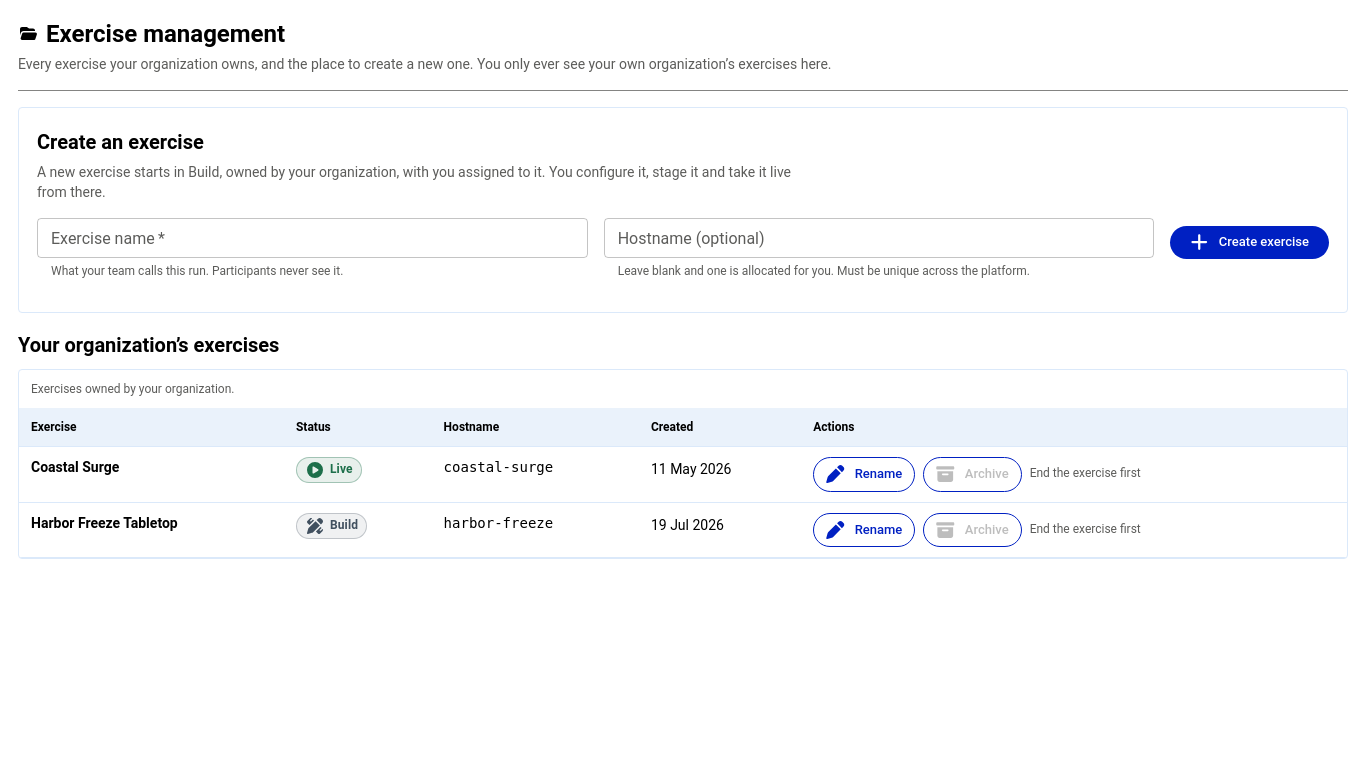
ExerciseManagementPage — create then list (stories 01 → 02) › the new exercise appears in the list, in Build, after a create
Expected: the row with test id "org-exercise-row-ex-2" is shown, [19,502,1347,558]
Type "Riverbend Flood TTX" into the field with test id "create-exercise-name". click: (312, 238)
box: [37,218,588,258]
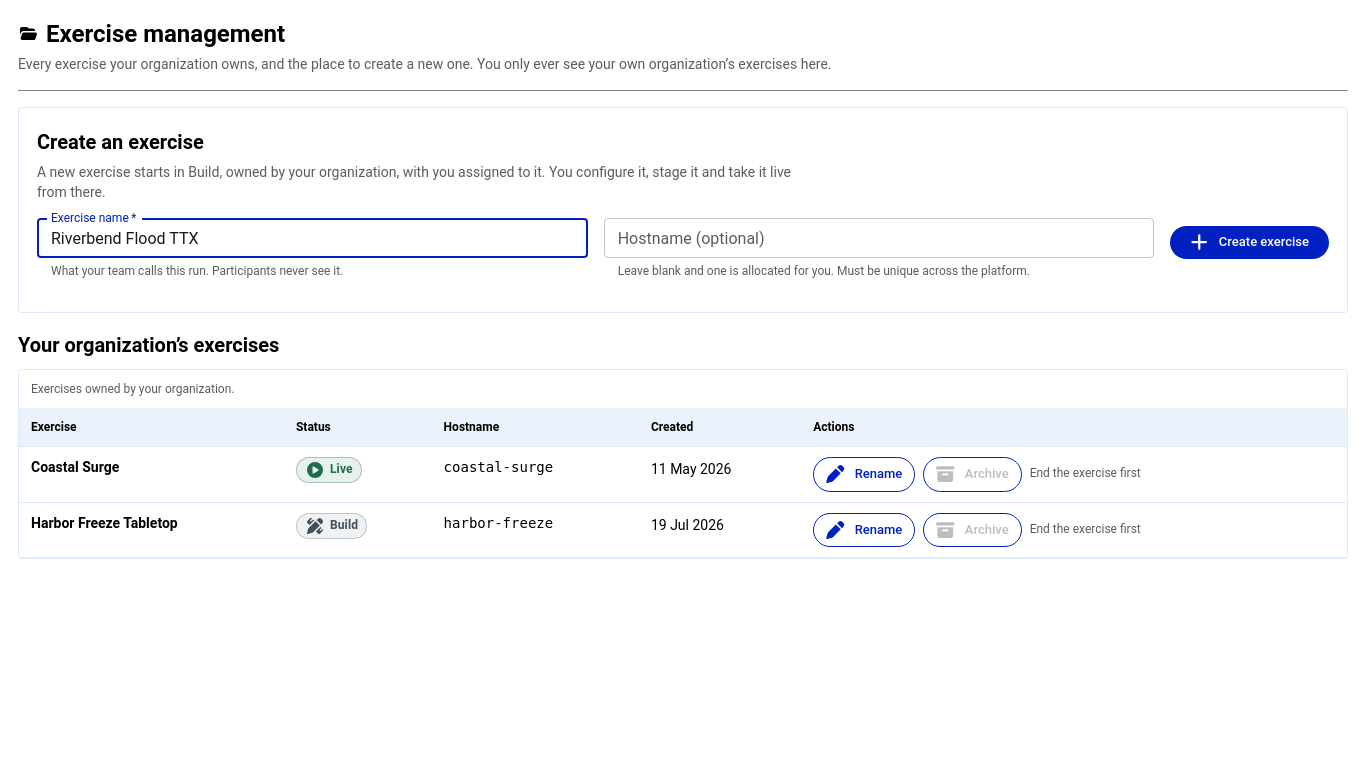
Click the button with test id "create-exercise-submit". click: (1250, 242)
box: [1170,226,1329,259]
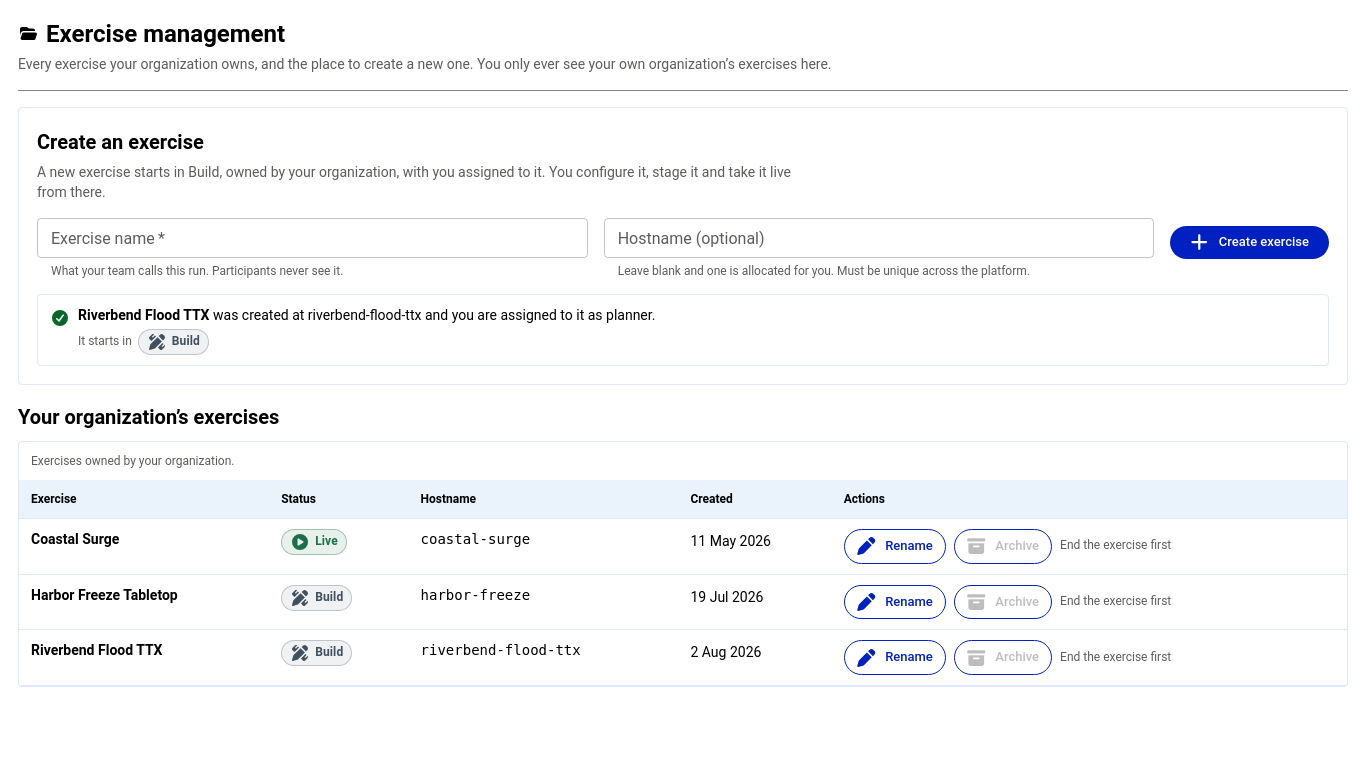
Expected: the text "Riverbend Flood TTX" in the row of "2 Aug 2026" is shown, [31,642,162,658]
Expected: the element with test id "exercise-status-build" in the row of "2 Aug 2026" reads "Build", [315,645,343,659]
